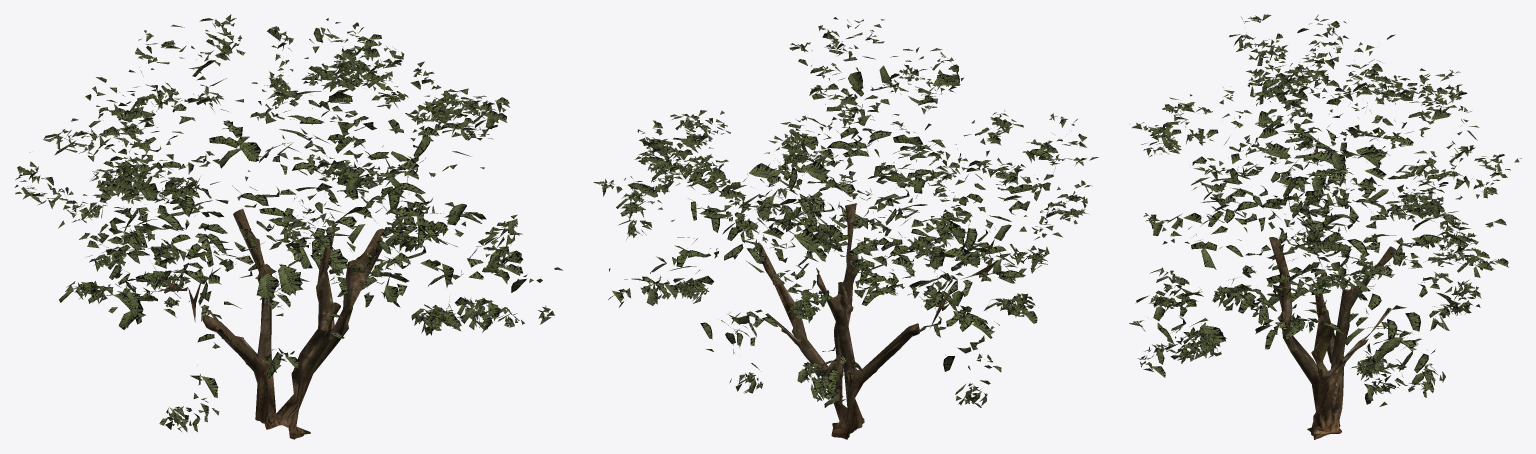
Rendered from arbre_jacaranda_lod1.glb.
The picture shows the model from 3 angles, left to right: view 1: azimuth 30°, elevation 25°; view 2: azimuth 150°, elevation 25°; view 3: azimuth 270°, elevation 25°; orthographic projection. The views are drawn at different scales.
Parts seen in each view (by area): view 1: jacaranda_tree_LOD0; view 2: jacaranda_tree_LOD0; view 3: jacaranda_tree_LOD0.
Boxes of the visible parts, left/top/right/bottom form: jacaranda_tree_LOD0: left=14, top=14, right=562, bottom=439; jacaranda_tree_LOD0: left=593, top=17, right=1098, bottom=439; jacaranda_tree_LOD0: left=1129, top=14, right=1521, bottom=439.
Bounding box in the file's own units: 23.78 × 19.24 × 18.19.
Materials: 3 (3 with a texture image).
